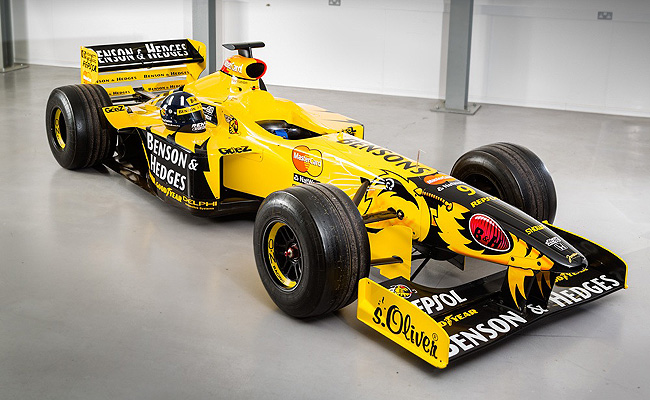f1_car: (40, 29, 633, 378)
